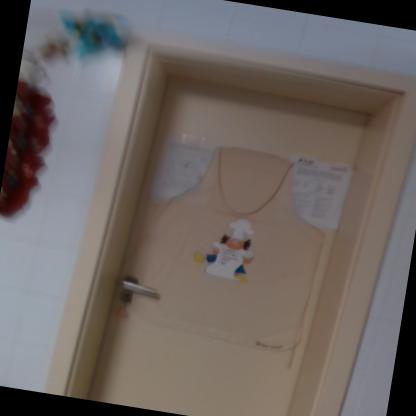closed: (69, 20, 415, 415)
